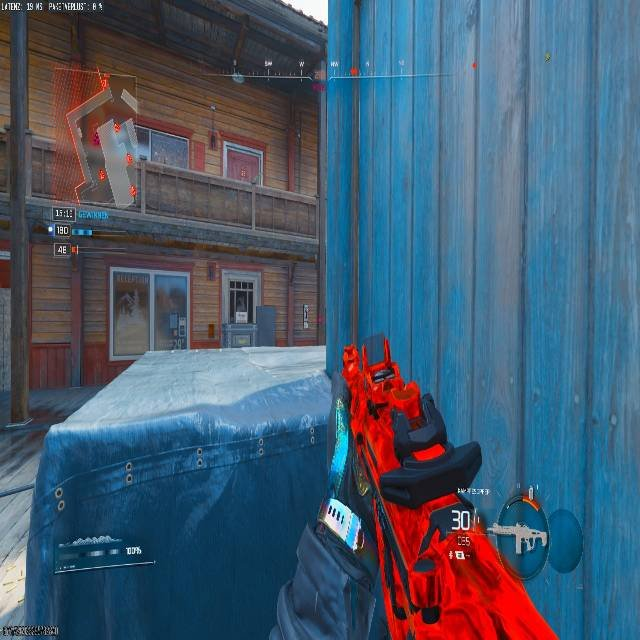player: (67, 79, 144, 209)
